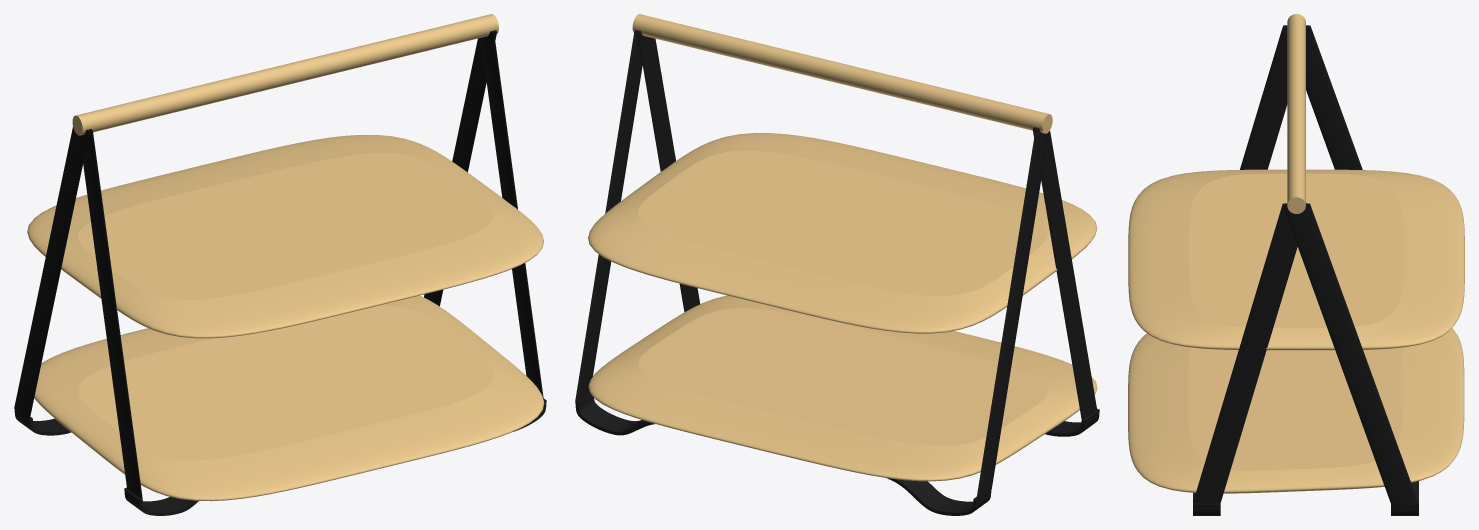
File: tray_napkin__86821ece655f.glb
3 views of the same model, side by side, from view 1: azimuth 30°, elevation 25°; view 2: azimuth 150°, elevation 25°; view 3: azimuth 270°, elevation 25° (orthographic). The views are drawn at different scales.
Visible parts, largest first — view 1: shelf, shelf.001, rail, back_leg.001, front_leg.001, front_leg, back_leg, return.002, return.003; view 2: shelf, shelf.001, rail, back_leg.001, front_leg.001, back_leg, front_leg, return.003, return.001, return.002; view 3: shelf, shelf.001, back_leg, front_leg, rail, back_leg.001, front_leg.001, return.001.
Part boxes in pixels (<box>): shelf: <box>27,135,543,338</box>; shelf.001: <box>34,295,544,501</box>; rail: <box>72,14,498,135</box>; back_leg.001: <box>14,127,89,418</box>; front_leg.001: <box>83,129,142,498</box>; front_leg: <box>480,31,543,400</box>; back_leg: <box>424,30,496,306</box>; return.002: <box>124,487,198,515</box>; return.003: <box>14,409,71,435</box>; shelf: <box>588,133,1097,333</box>; shelf.001: <box>588,295,1097,481</box>; rail: <box>632,14,1052,133</box>; back_leg.001: <box>976,128,1048,499</box>; front_leg.001: <box>1032,127,1096,419</box>; back_leg: <box>575,30,642,401</box>; front_leg: <box>637,30,700,311</box>; return.003: <box>886,478,991,515</box>; return.001: <box>575,392,654,435</box>; return.002: <box>1045,408,1099,436</box>; shelf: <box>1128,169,1464,350</box>; shelf.001: <box>1128,328,1464,493</box>; back_leg: <box>1282,204,1418,504</box>; front_leg: <box>1193,203,1310,503</box>; rail: <box>1287,14,1305,213</box>; back_leg.001: <box>1283,25,1362,169</box>; front_leg.001: <box>1240,26,1310,169</box>; return.001: <box>1391,481,1418,515</box>.
Bounding box in the file's own units: 0.28 × 0.2352 × 0.2175.
